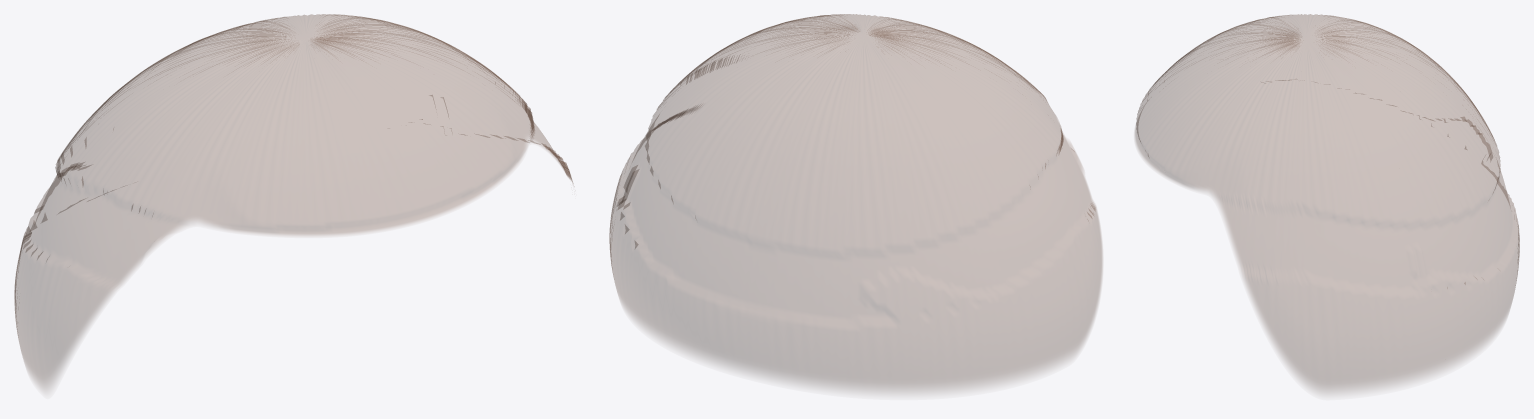
File: Ombre-cb743c1a9a75253-hair.glb
The picture shows the model from 3 angles, left to right: view 1: azimuth 30°, elevation 25°; view 2: azimuth 150°, elevation 25°; view 3: azimuth 270°, elevation 25°; orthographic projection. The views are drawn at different scales.
Visible parts, largest first — view 1: 226 hair / Hair252 / buzz edge.001; view 2: 226 hair / Hair252 / buzz edge.001; view 3: 226 hair / Hair252 / buzz edge.001.
Part boxes in pixels (x1,y1,x2,y2): 226 hair / Hair252 / buzz edge.001: [14, 14, 573, 389]; 226 hair / Hair252 / buzz edge.001: [609, 14, 1102, 392]; 226 hair / Hair252 / buzz edge.001: [1135, 14, 1519, 392].
Bounding box in the file's own units: 0.9886 × 0.5747 × 0.76.
Materials: 1 (1 with a texture image).
